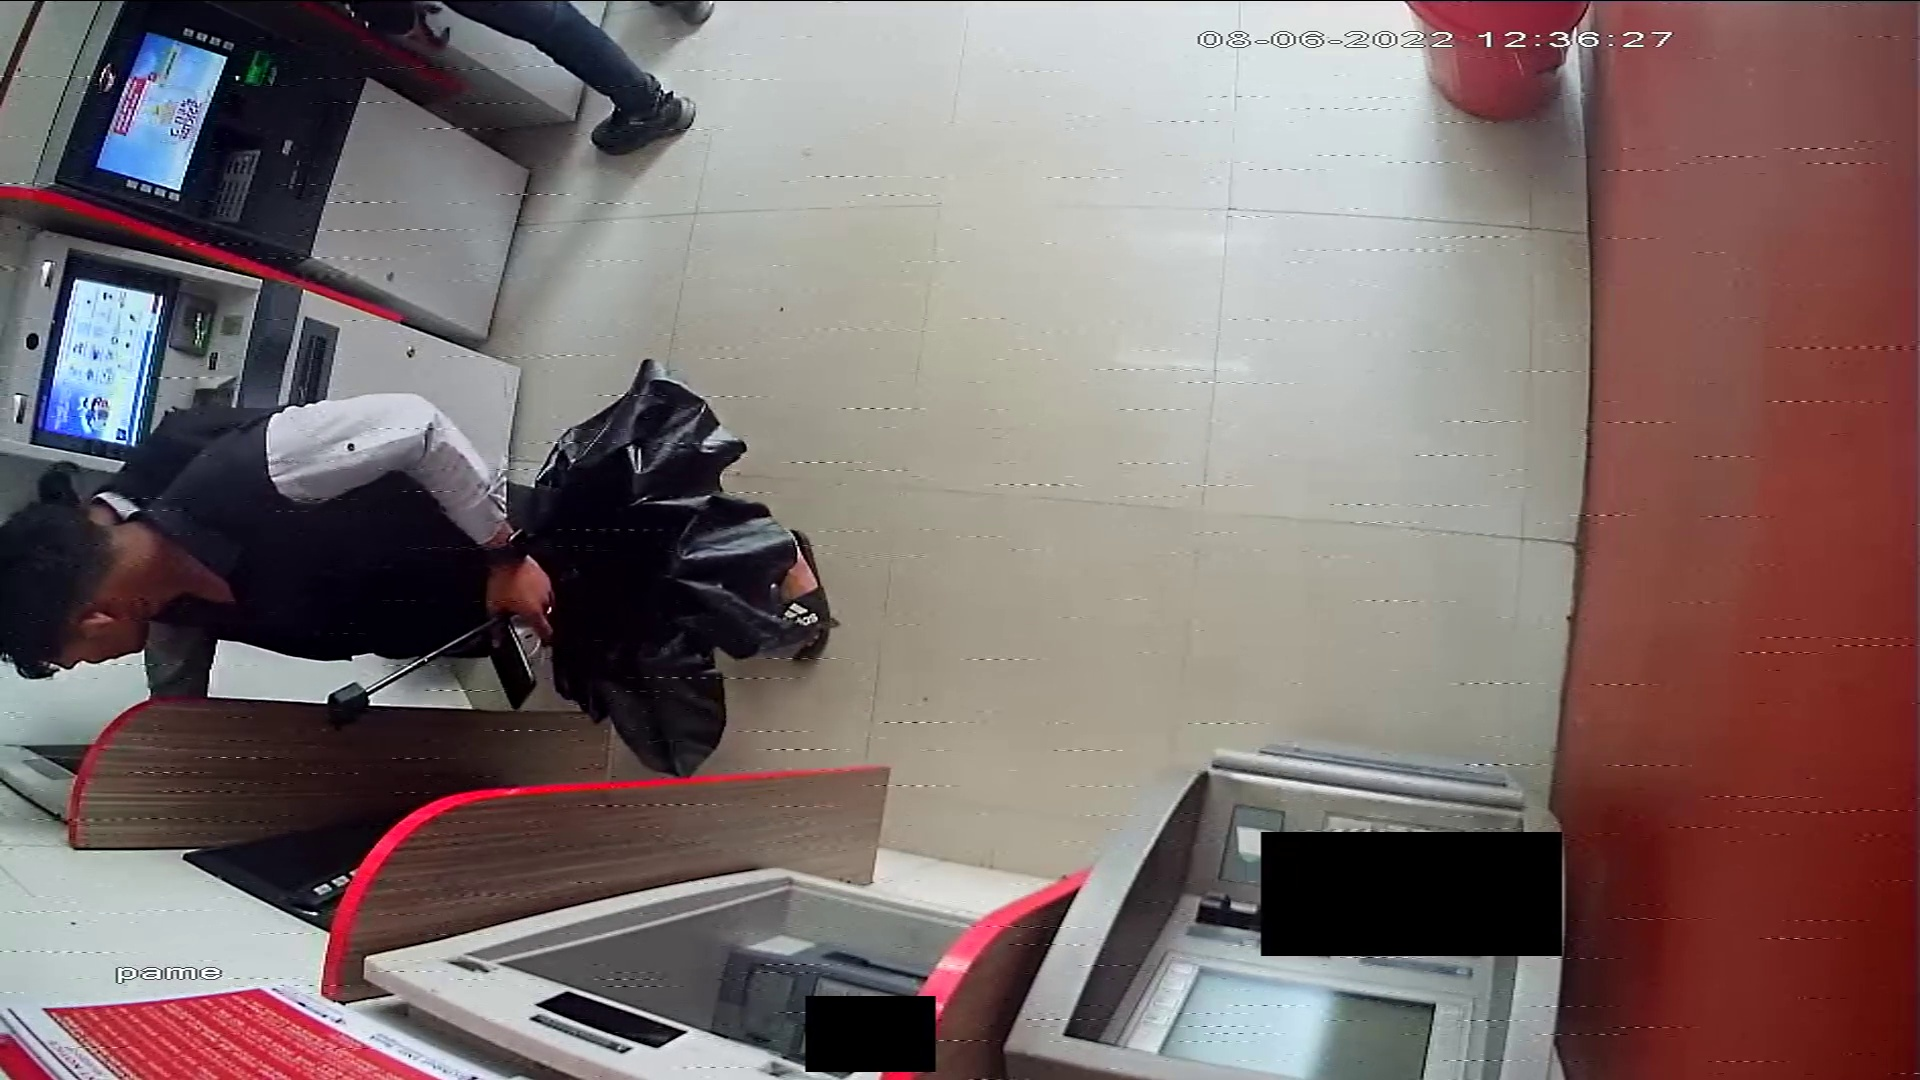person: (1, 394, 837, 679)
